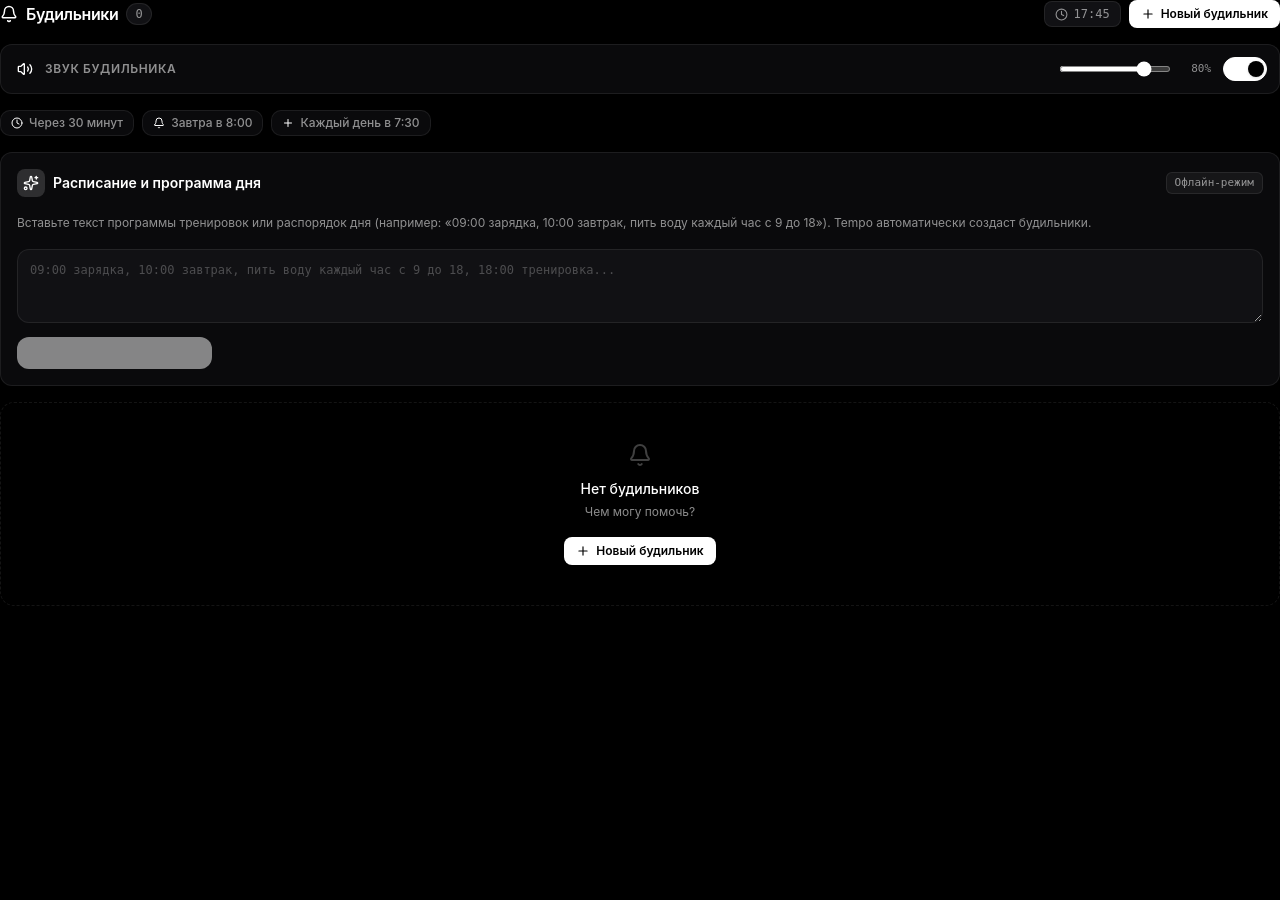
Test: creating an alarm with specific weekdays › offers a chip for every weekday in the creation sheet
Click the button with test id "new-alarm-btn": (1204, 14) [1129,0,1279,28]
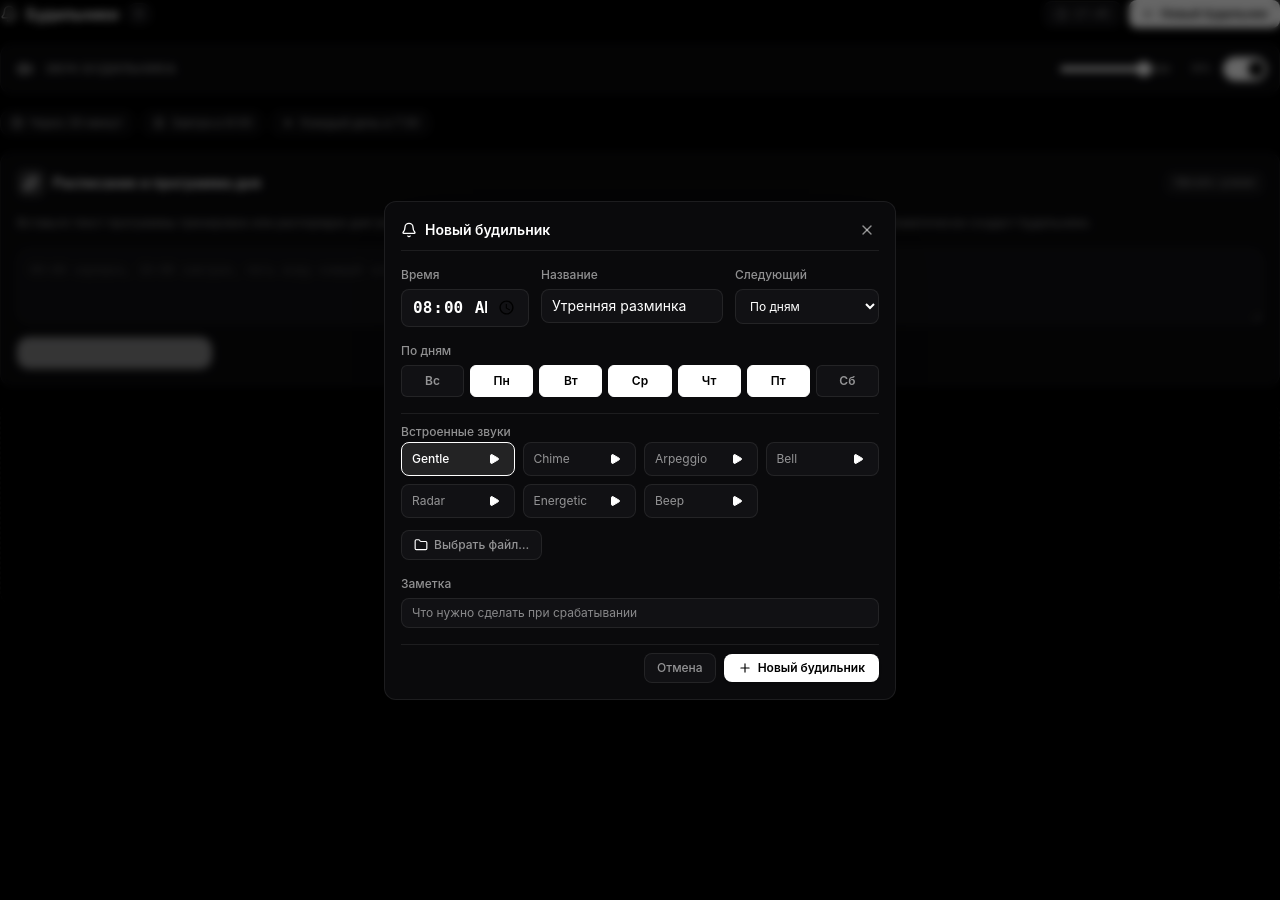
Expected: the button titled "Звонить в Вс" is shown, [401,364,464,396]
Expected: the button titled "Звонить в Пн" is shown, [470,364,533,396]
Expected: the button titled "Звонить в Пт" is shown, [747,364,810,396]
